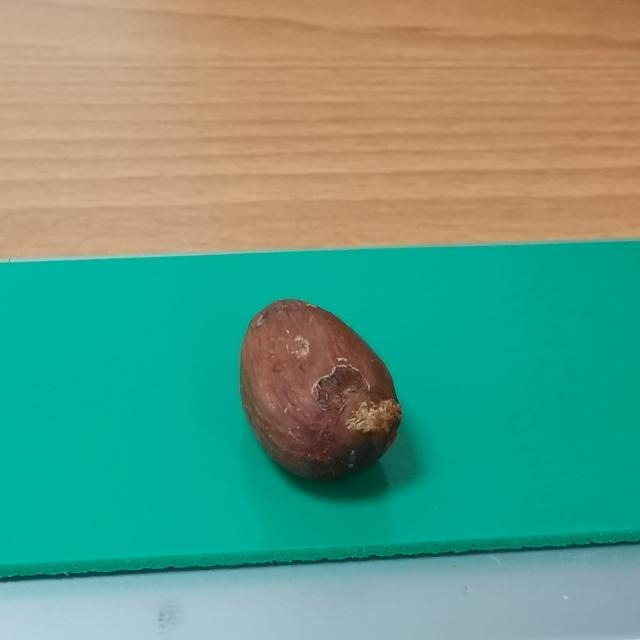Fine_cocoabeans: (102, 234, 480, 537)
